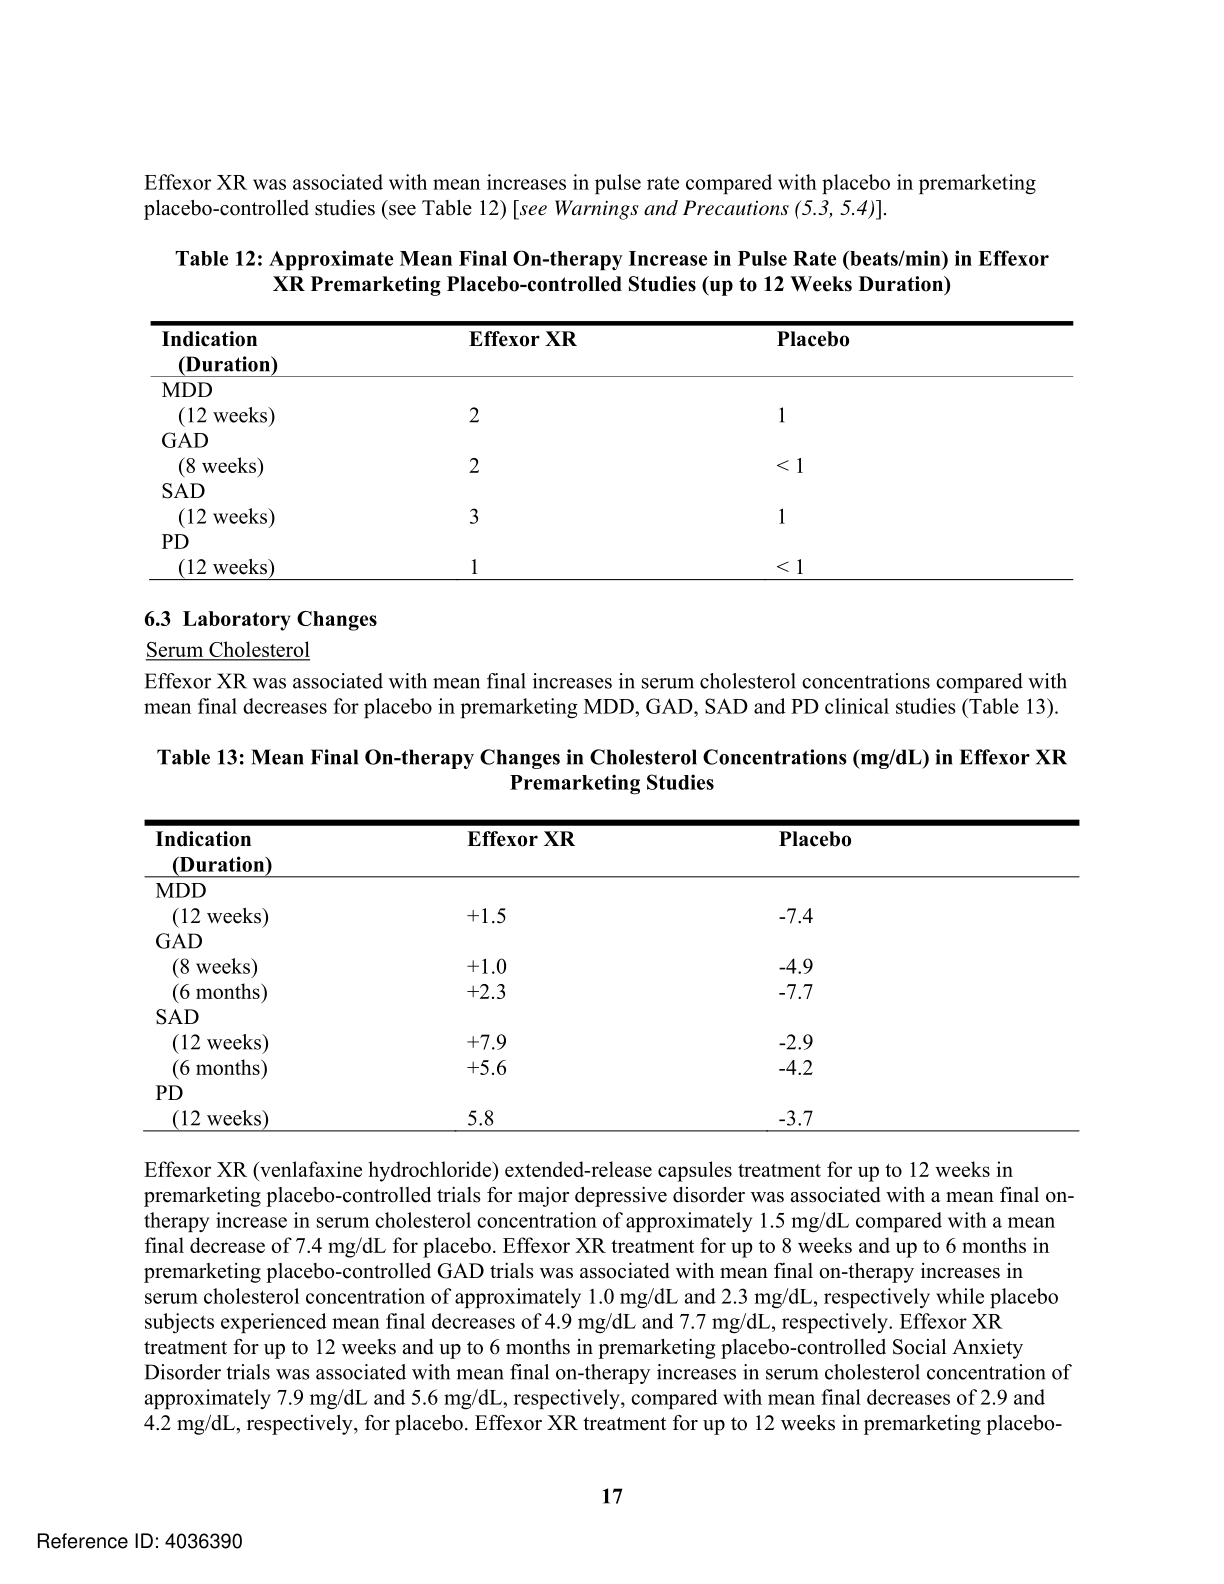partial_lined: (141, 818, 1083, 1137), (147, 318, 1076, 582)
